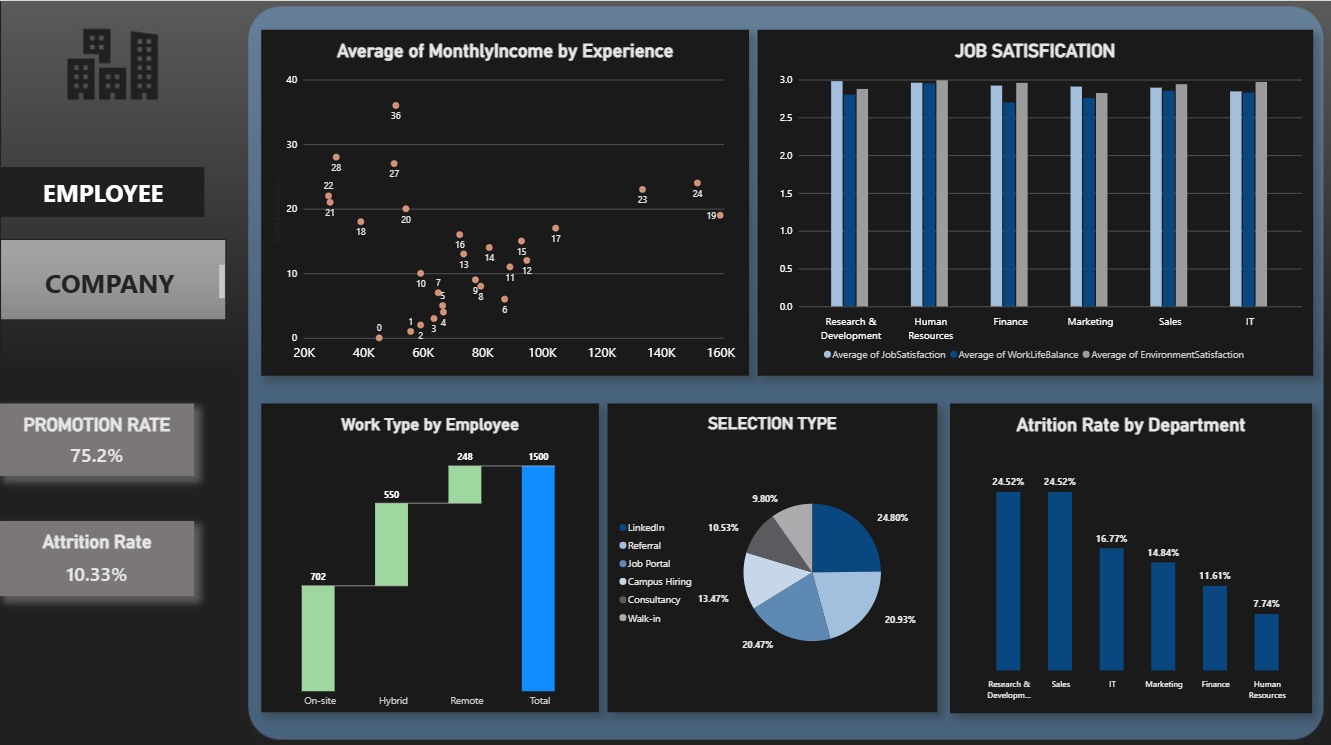

What the dashboard file says about the page in this screenshot:
{"tool":"powerbi","page":{"name":"COMPANY","canvas":[1920,1080],"ordinal":1},"visuals":[{"type":"actionButton","box":[0,239.1,296.6,71.9],"z":0},{"type":"textbox","box":[0,379.3,323.6,48.5],"z":1000},{"type":"waterfallChart","title":"Work Type by Employee","fields":{"Category":["Dataset.RemoteWorkType"],"Y":["Divide(CountNonNull(Dataset.EmployeeID), ScopedEval(CountNonNull(Dataset.EmployeeID), []))"]},"box":[375.2,579.5,485.7,443.9],"z":2000},{"type":"pieChart","title":"SELECTION TYPE","fields":{"Category":["Dataset.RecruitmentSource"],"Y":["CountNonNull(Dataset.EmployeeID)"]},"box":[874.3,579.5,474,443.9],"z":3000},{"type":"columnChart","title":"Atrition Rate by Department","fields":{"Category":["Dataset.Department"],"Y":["Dataset.Attrition Count"]},"box":[1366.8,579.5,520.9,445.5],"z":4000},{"type":"clusteredColumnChart","title":"JOB SATISFICATION          ","fields":{"Category":["Dataset.Department"],"Y":["Avg(Dataset.JobSatisfaction)","Avg(Dataset.WorkLifeBalance)","Avg(Dataset.EnvironmentSatisfaction)"]},"box":[1088.7,41.9,798.9,497.5],"z":5000},{"type":"scatterChart","title":"Average of MonthlyIncome by Experience","fields":{"X":["Avg(Dataset.MonthlyIncome)"],"Y":["Dataset.YearsAtCompany"]},"box":[375.2,41.9,701.8,497.5],"z":6000},{"type":"card","title":"PROMOTION RATE ","fields":{"Values":["Dataset.PROMOTION RATE"]},"box":[0,579.5,279.2,103.9],"z":10000},{"type":"card","title":"Attrition Rate","fields":{"Values":["Dataset.AttritionRateText"]},"box":[0,748.7,279.2,108.2],"z":11000}]}

Visuals, with their boxes in screenshot pixels (x1, y1, x2, y2), scaled from the page's 1920x1080 canvas onto the 1331x745 screenshot:
actionButton: x1=0 y1=165 x2=206 y2=215
textbox: x1=0 y1=262 x2=224 y2=295
"Work Type by Employee" waterfallChart: x1=260 y1=400 x2=597 y2=706
"SELECTION TYPE" pieChart: x1=606 y1=400 x2=935 y2=706
"Atrition Rate by Department" columnChart: x1=948 y1=400 x2=1309 y2=707
"JOB SATISFICATION          " clusteredColumnChart: x1=755 y1=29 x2=1309 y2=372
"Average of MonthlyIncome by Experience" scatterChart: x1=260 y1=29 x2=747 y2=372
"PROMOTION RATE " card: x1=0 y1=400 x2=194 y2=471
"Attrition Rate" card: x1=0 y1=516 x2=194 y2=591
